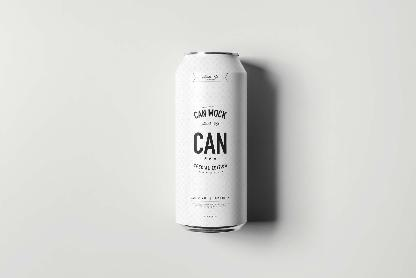Can: (176, 52, 247, 232)
